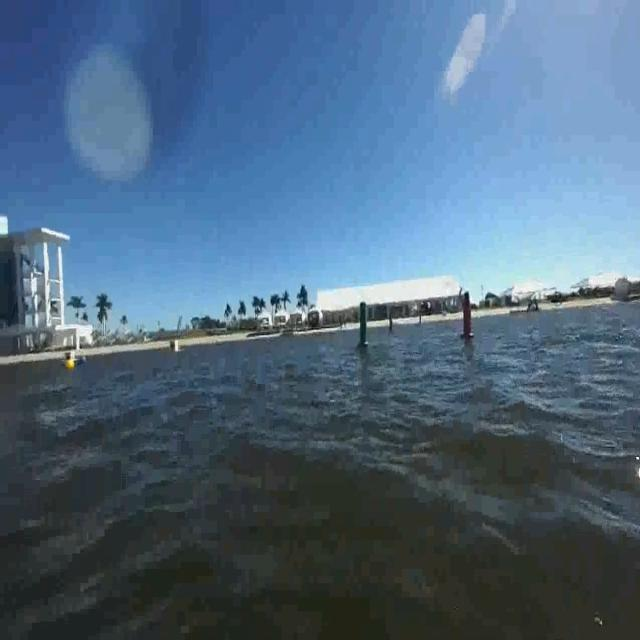green-column-buoy: (356, 300, 371, 350)
red-column-buoy: (462, 296, 477, 344)
yellow-duck: (66, 356, 76, 371)
